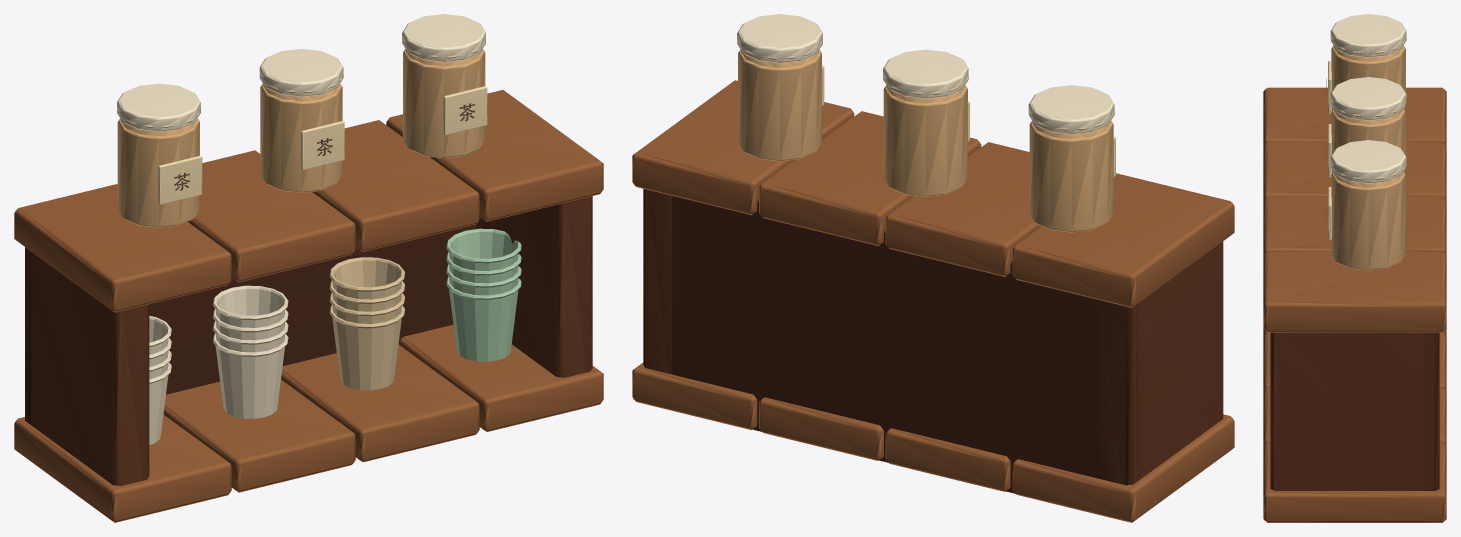
The model's file is cup_shelf.fbx.
3 renders of one model, left to right at view 1: azimuth 30°, elevation 25°; view 2: azimuth 150°, elevation 25°; view 3: azimuth 270°, elevation 25°, orthographic. The views are drawn at different scales.
Parts seen in each view (by area): view 1: cup_shelf; view 2: cup_shelf; view 3: cup_shelf.
Part boxes in pixels (box(x1,y1,x2,y2)): cup_shelf: box(14, 14, 603, 522); cup_shelf: box(632, 14, 1234, 522); cup_shelf: box(1263, 14, 1446, 522).
Size of the model in its own units: 76 by 53.2 by 27.
